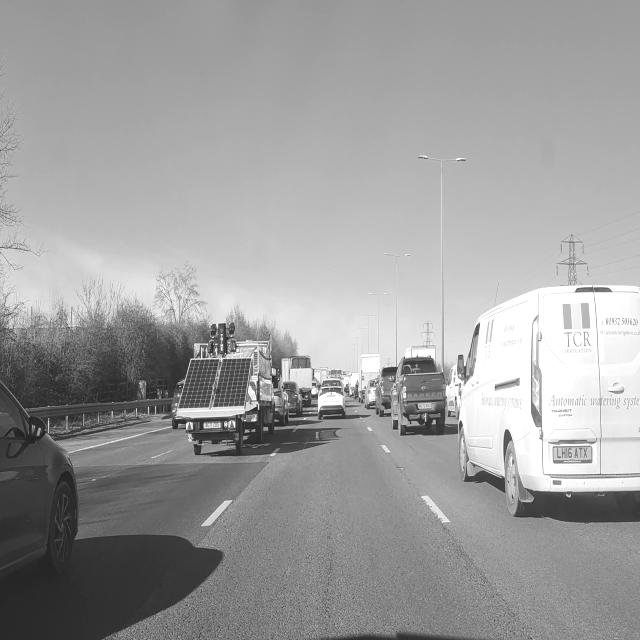car: (458, 286, 639, 515), (0, 382, 78, 573), (391, 358, 445, 435), (318, 381, 345, 419), (376, 367, 396, 416), (272, 376, 288, 425), (447, 366, 461, 419), (283, 382, 302, 416), (172, 379, 184, 429), (364, 379, 376, 409)
